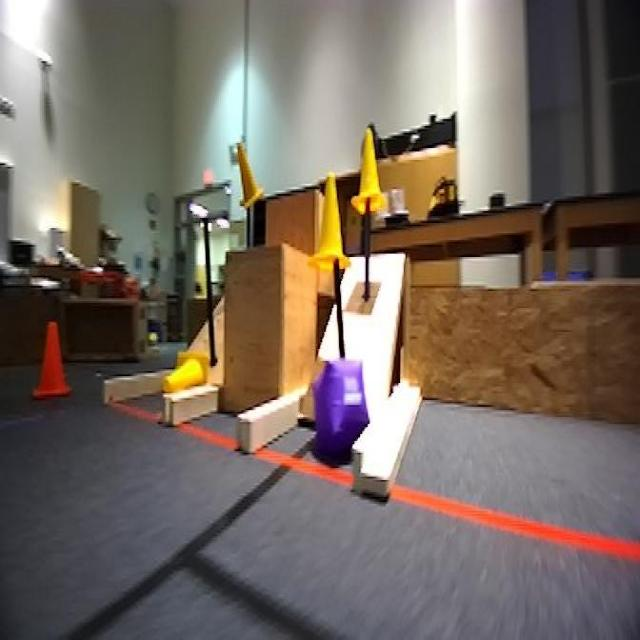frc_cone: (314, 172, 350, 269), (356, 136, 390, 215), (163, 344, 211, 396), (237, 148, 263, 211)
frc_cube: (302, 359, 359, 448)
